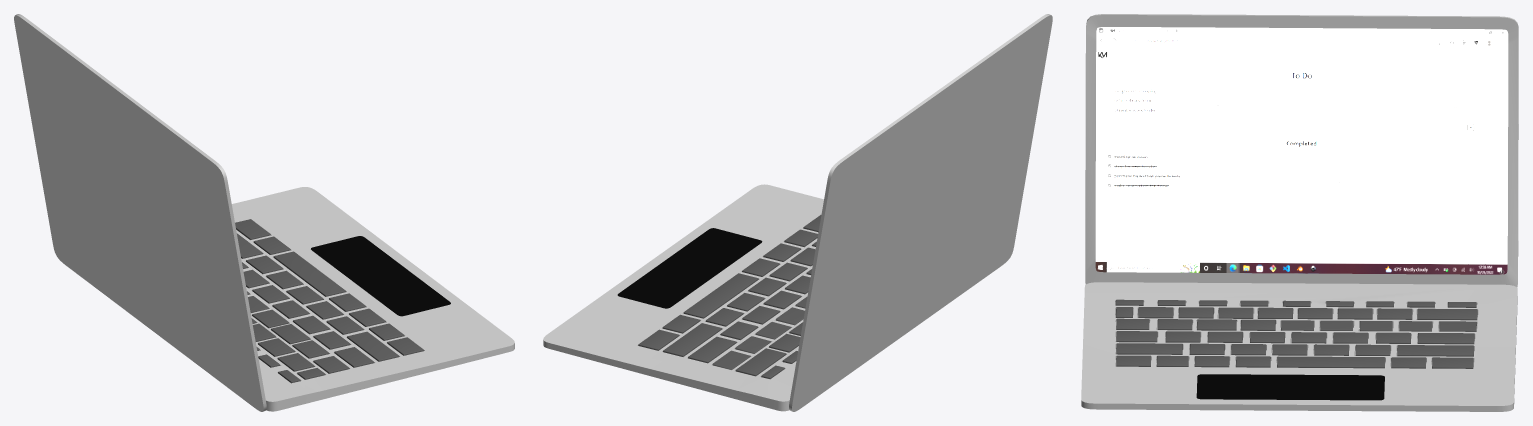
Rendered from tdLaptop.gltf.
The picture shows the model from 3 angles, left to right: view 1: azimuth 30°, elevation 25°; view 2: azimuth 150°, elevation 25°; view 3: azimuth 270°, elevation 25°; orthographic projection.
Parts seen in each view (by area): view 1: top, base, keys, mouse; view 2: top, base, keys, mouse; view 3: screen, base, keys, top, mouse, button5.
Boxes of the visible parts, box(x1,y1,x2,y2) form: top: box(14, 14, 266, 411); base: box(231, 187, 514, 411); keys: box(235, 219, 423, 383); mouse: box(311, 236, 450, 316); top: box(789, 14, 1052, 411); base: box(543, 184, 823, 411); keys: box(638, 215, 821, 379); mouse: box(617, 228, 762, 308); screen: box(1095, 27, 1508, 274); base: box(1081, 282, 1517, 411); keys: box(1115, 299, 1477, 368); top: box(1085, 14, 1518, 287); mouse: box(1196, 374, 1384, 400); button5: box(1439, 321, 1476, 331).
Size of the model in its own units: 2.41 by 1.98 by 3.03.
4 materials, 1 textured.
